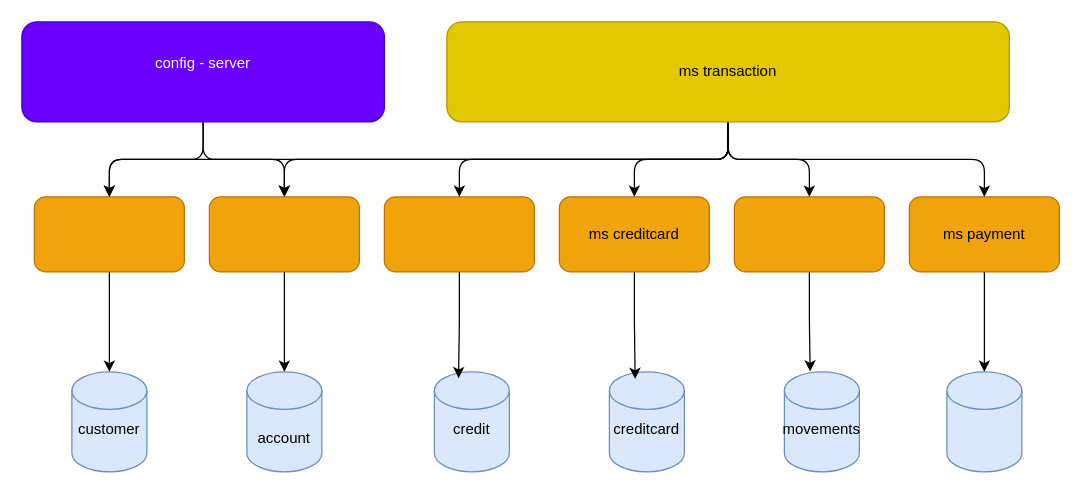
Some shapes in this 1081 by 494 pixel diagram are drawn without their labels. Here are the shapes that lost their labels. From the top down, the centre of each, then its label:
At [108,234]: "ms customer".
At [283,234]: "ms account".
At [458,234]: "ms credit".
At [808,234]: "ms movement".
At [984,421]: "payment".
